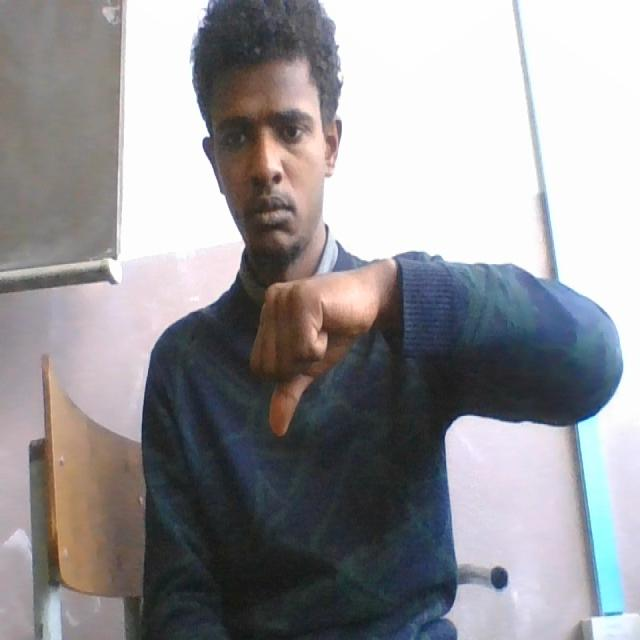injera: (243, 259, 388, 446)
